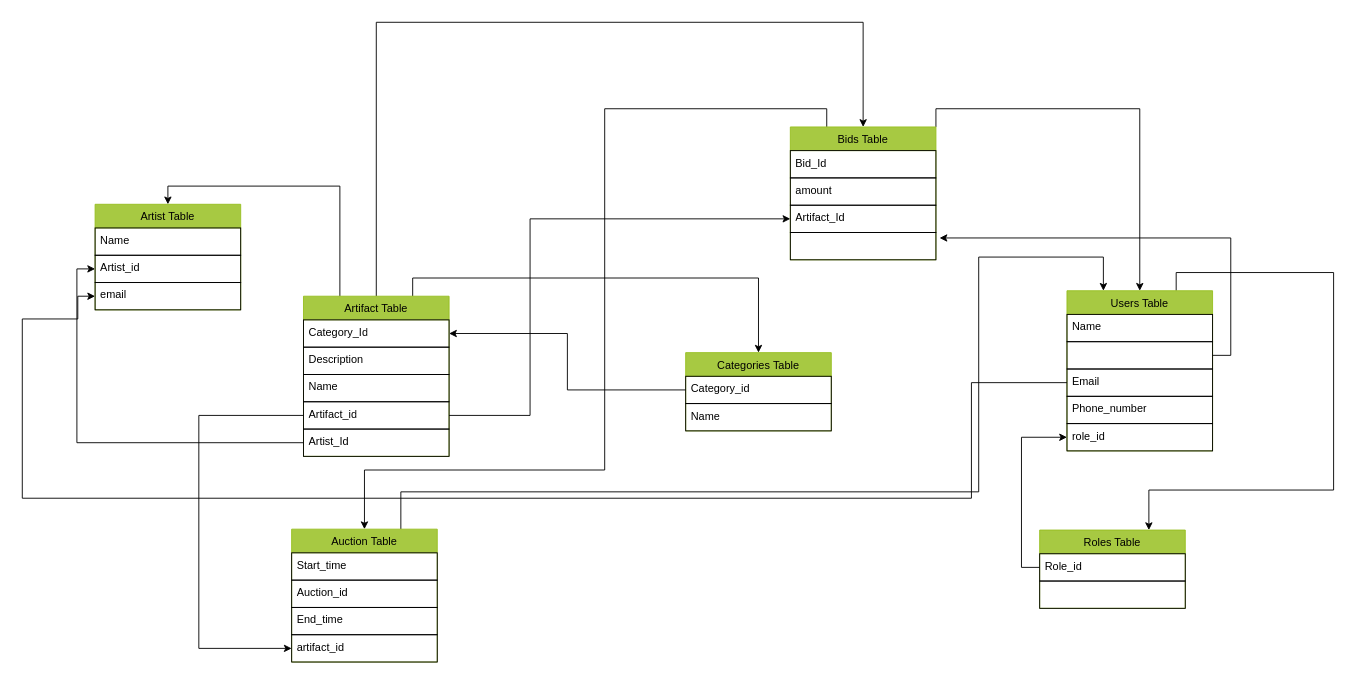
Some shapes in this 1357 by 681 pixel diagram are drawn without their labels. Here are the shapes that lost their labels. From the top down, the centre of each, then its label:
At pixel 862 246: "Bidder_Id".
At pixel 1139 355: "User_id".
At pixel 1112 594: "Title".
